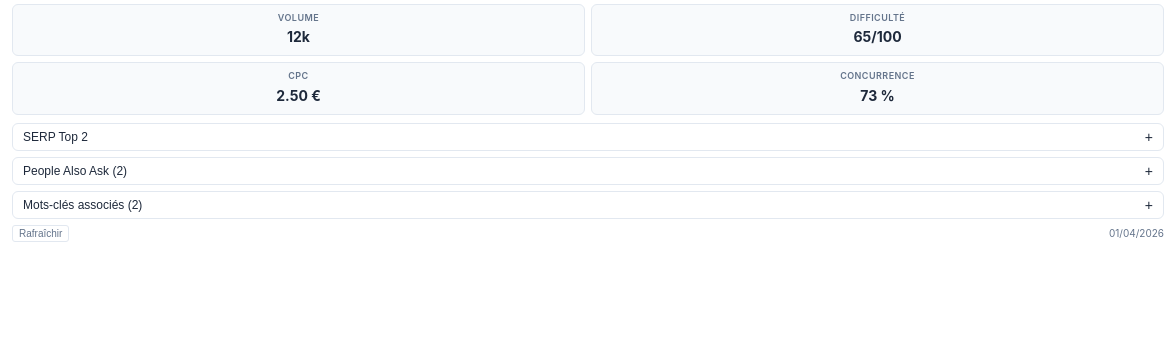
SerpDataTab › expands SERP section on click
Click the button with class "collapsible-header" showing "SERP Top 2 +" at (55, 137), box [13, 124, 1163, 150]
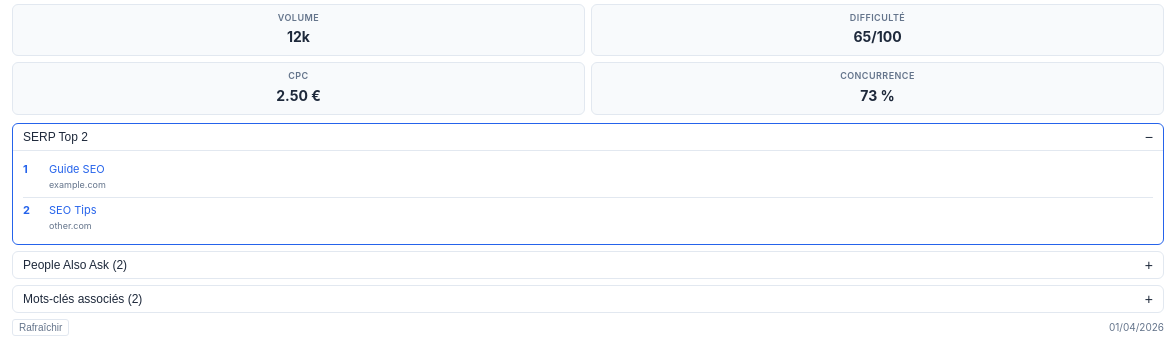
expect the text "Guide SEO" is shown: met, box [49, 161, 106, 178]
expect the text "example.com" is shown: met, box [49, 178, 106, 193]
